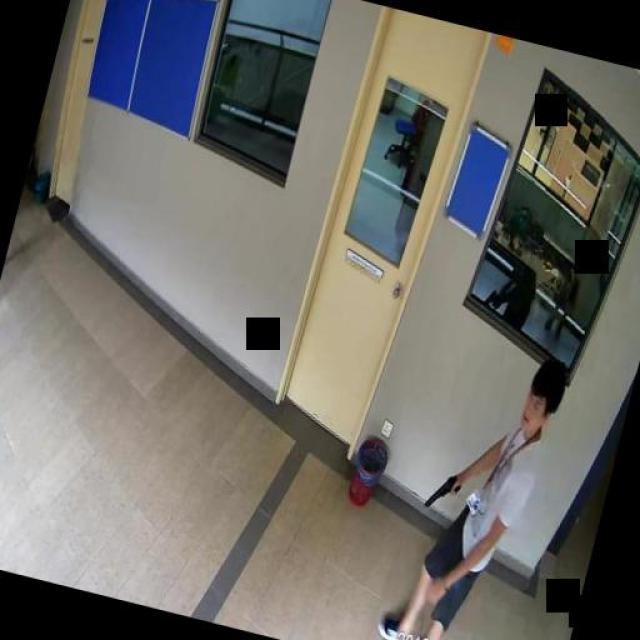gun: (423, 468, 462, 512)
